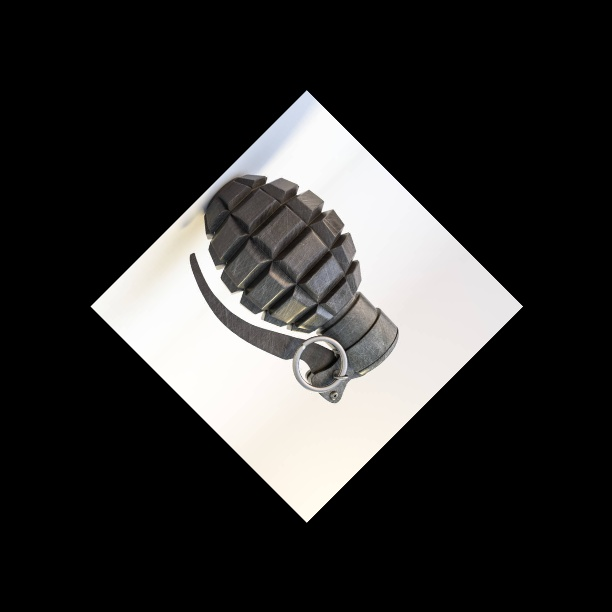e1: (190, 174, 400, 404)
